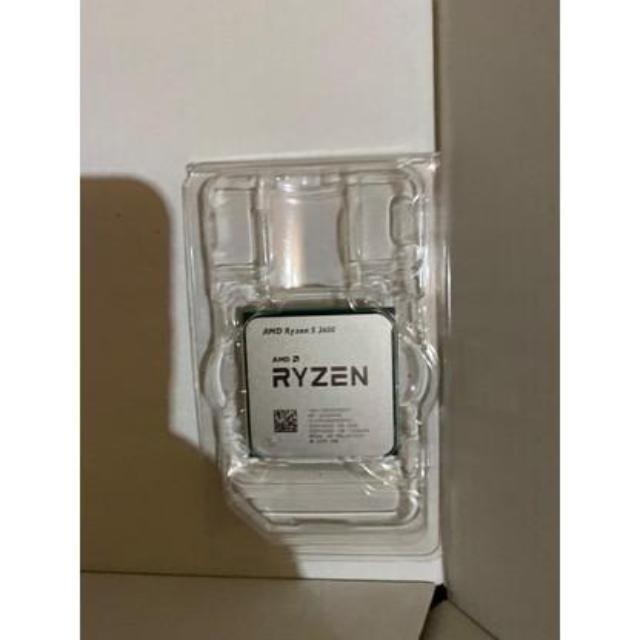CPU: (244, 313, 398, 458)
